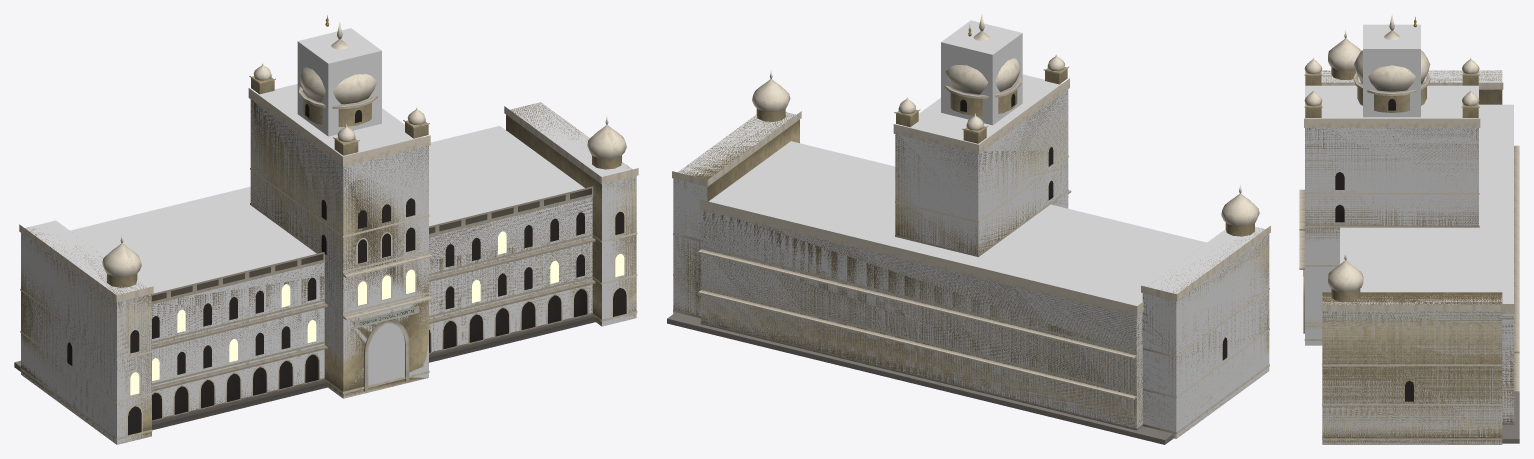
File: osmania_hospital.glb
The picture shows the model from 3 angles, left to right: view 1: azimuth 30°, elevation 25°; view 2: azimuth 150°, elevation 25°; view 3: azimuth 270°, elevation 25°; orthographic projection. The views are drawn at different scales.
Parts seen in each view (by area): view 1: COL_osmania_hospital, osmania_hospital_body; view 2: COL_osmania_hospital, osmania_hospital_body; view 3: COL_osmania_hospital, osmania_hospital_body.
Boxes of the visible parts, <box> form: COL_osmania_hospital: <box>21,28,636,444</box>; osmania_hospital_body: <box>14,15,638,444</box>; COL_osmania_hospital: <box>673,20,1269,438</box>; osmania_hospital_body: <box>667,14,1270,444</box>; COL_osmania_hospital: <box>1305,24,1513,444</box>; osmania_hospital_body: <box>1299,14,1519,444</box>.
Bounding box in the file's own units: 195 × 119 × 76.
Materials: 8 (8 with a texture image).
